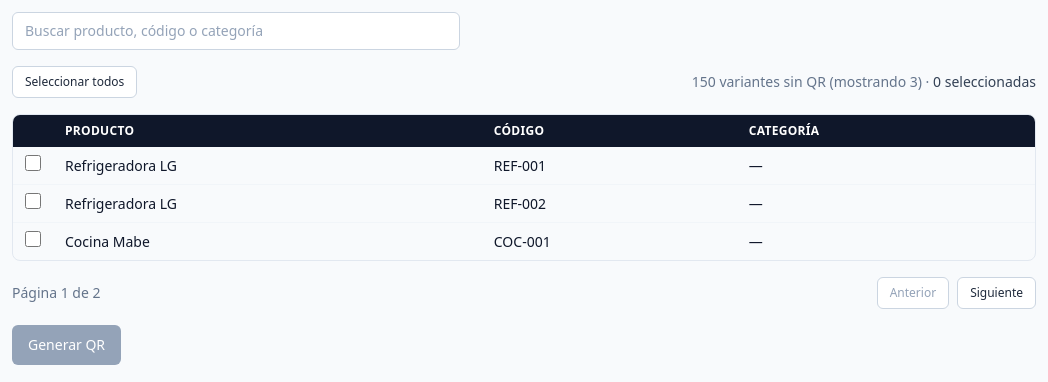
Test: BulkQrGenerator › pages through more than 100 pending variants instead of silently hiding the rest
Expected: the text "Página 1 de 2" is shown, [12,283,100,303]
Click the button "Siguiente" at (997, 293), box [957,277,1036,309]
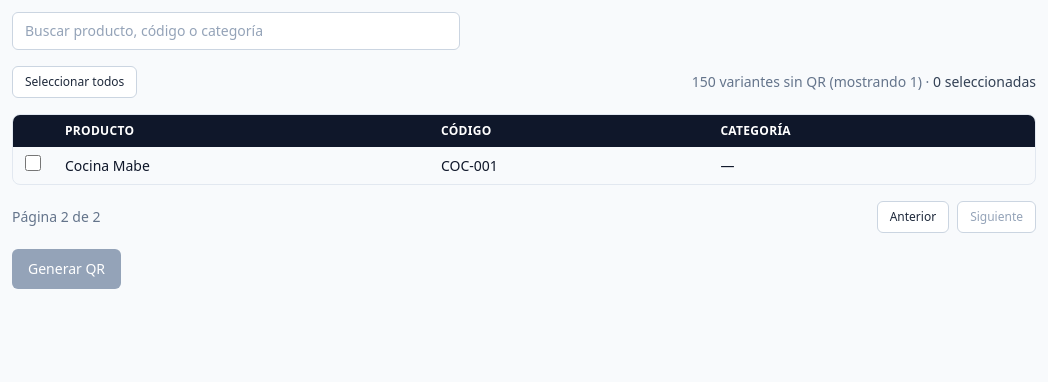
Now the text "Página 2 de 2" is shown, box [12,207,100,227]
